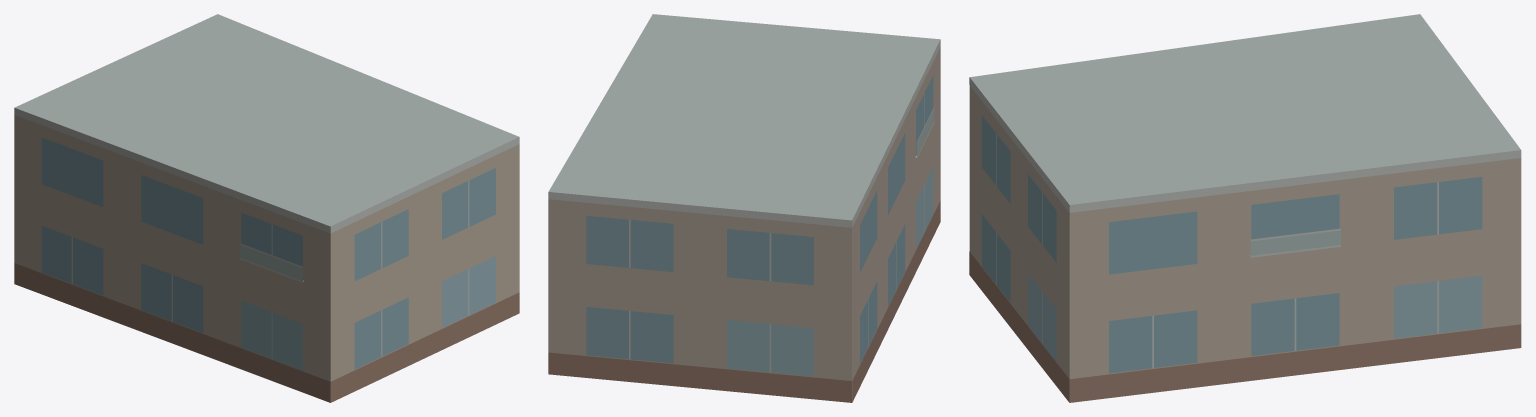
The model's file is survey-upis-32652962.glb.
The picture shows the model from 3 angles, left to right: view 1: azimuth 30°, elevation 25°; view 2: azimuth 150°, elevation 25°; view 3: azimuth 270°, elevation 25°; orthographic projection. The views are drawn at different scales.
Parts seen in each view (by area): view 1: survey-upis-32652962.tmp; view 2: survey-upis-32652962.tmp; view 3: survey-upis-32652962.tmp.
Part boxes in pixels (x1,y1,x2,y2): survey-upis-32652962.tmp: [14, 14, 519, 402]; survey-upis-32652962.tmp: [548, 14, 940, 402]; survey-upis-32652962.tmp: [969, 14, 1521, 402].
Size of the model in its own units: 12.64 by 6.1 by 15.43.
